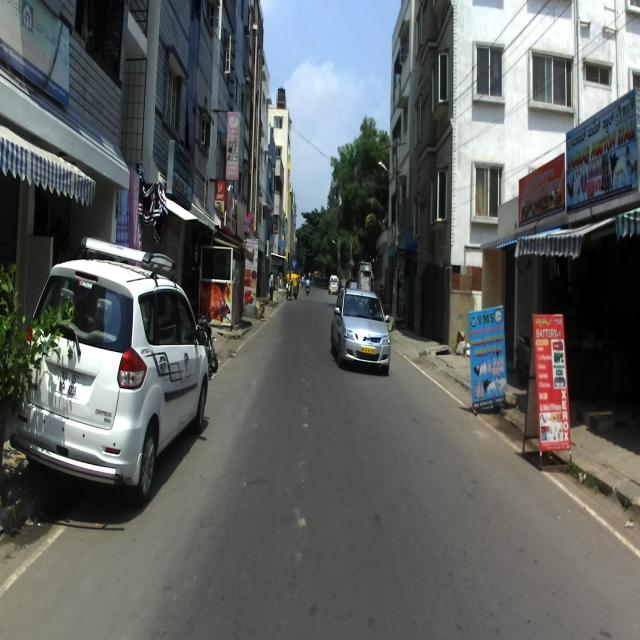car ahead at: (34, 237, 216, 508), (335, 281, 390, 377)
